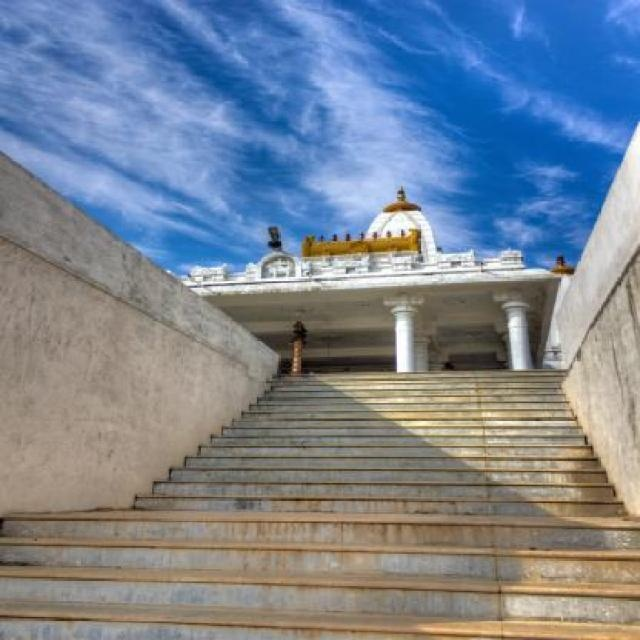stair: (0, 371, 640, 640)
